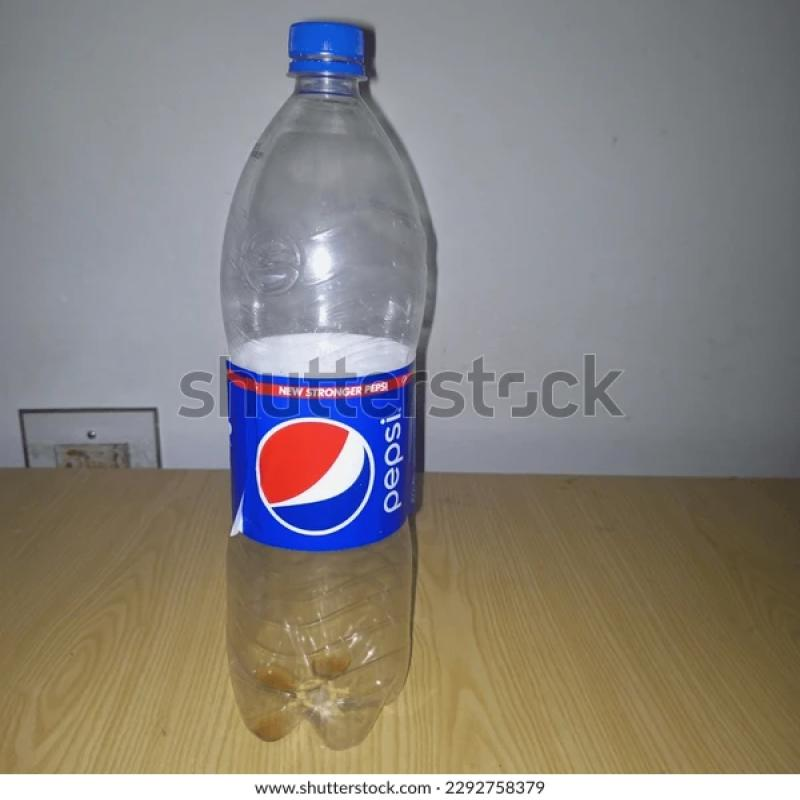botella: (223, 13, 443, 749)
